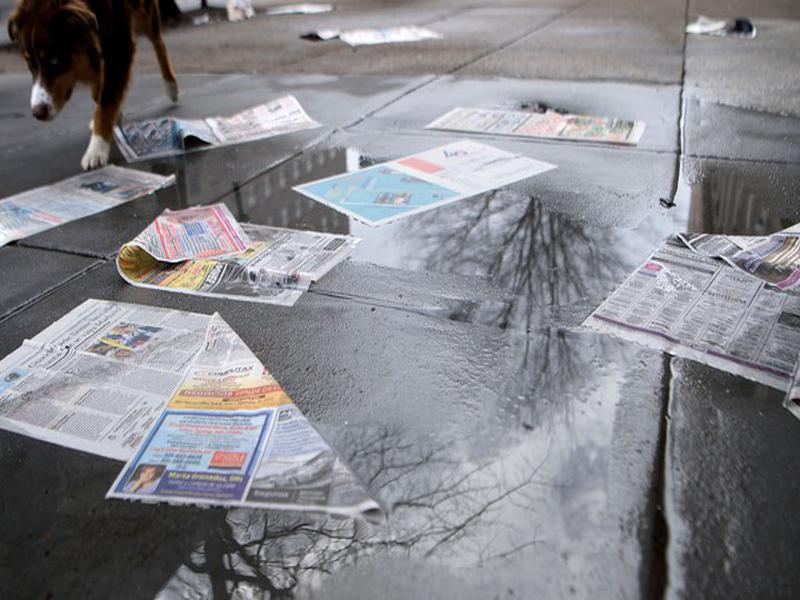paper: (2, 291, 391, 516), (579, 204, 800, 427), (112, 200, 367, 313), (294, 134, 563, 222), (1, 154, 181, 253), (113, 91, 330, 167), (418, 92, 657, 154)
